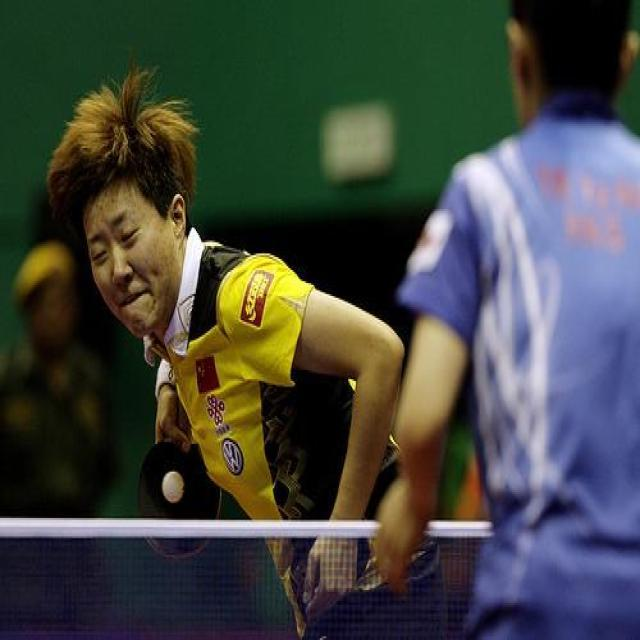ping-pong-ball: (162, 470, 186, 505)
